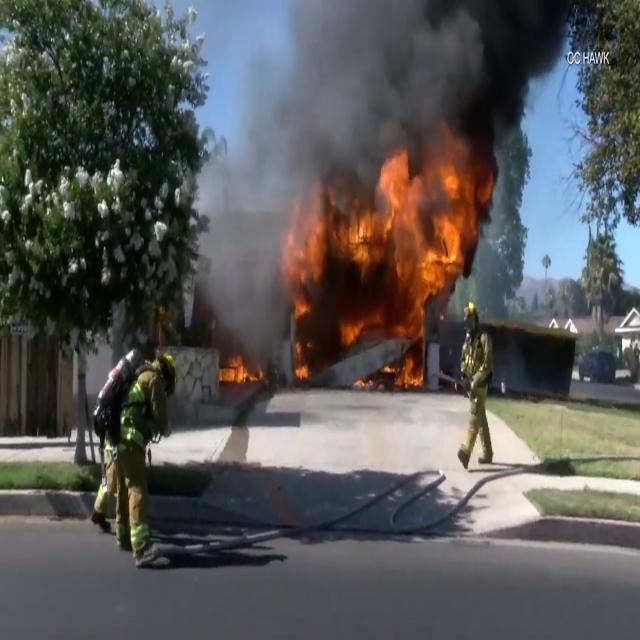Fire: (274, 146, 488, 384), (217, 346, 261, 390)
Smoke: (251, 1, 569, 200)
